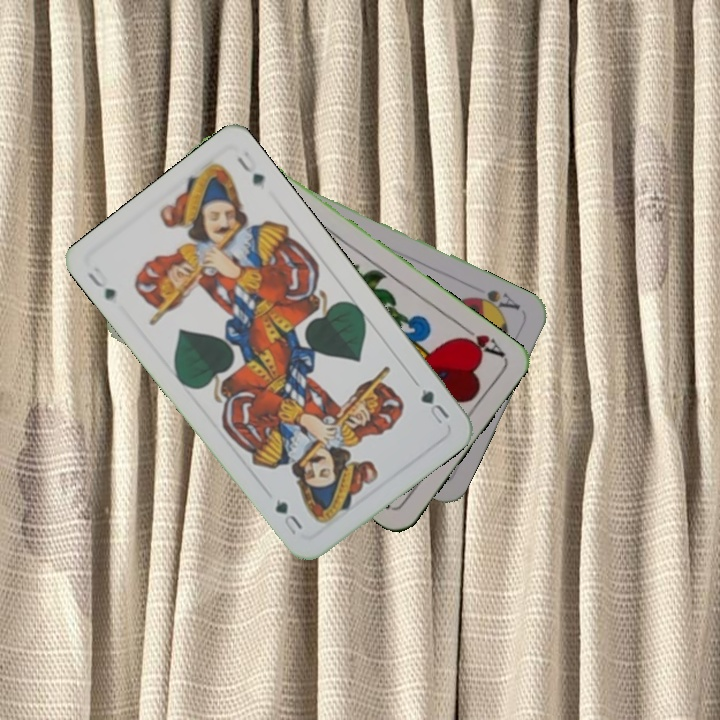GU: (416, 384, 452, 427), (83, 267, 119, 304)
HA: (453, 319, 507, 360)
SA: (466, 285, 523, 317)
